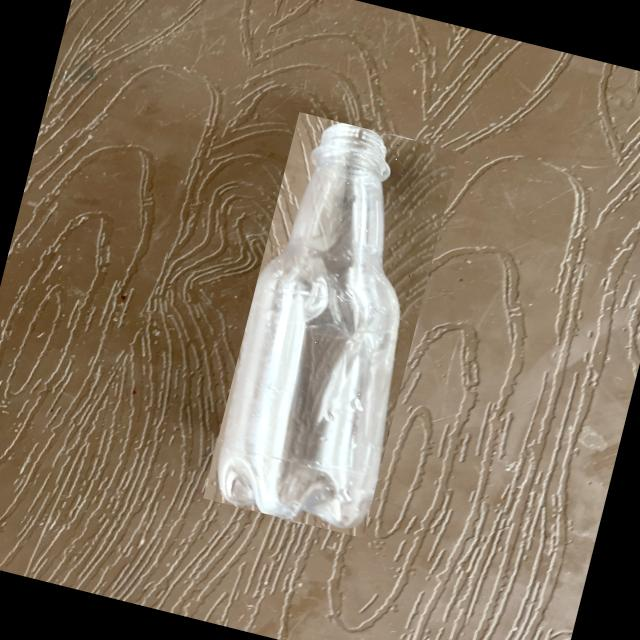PET_With_Liquid: (218, 124, 398, 527)
